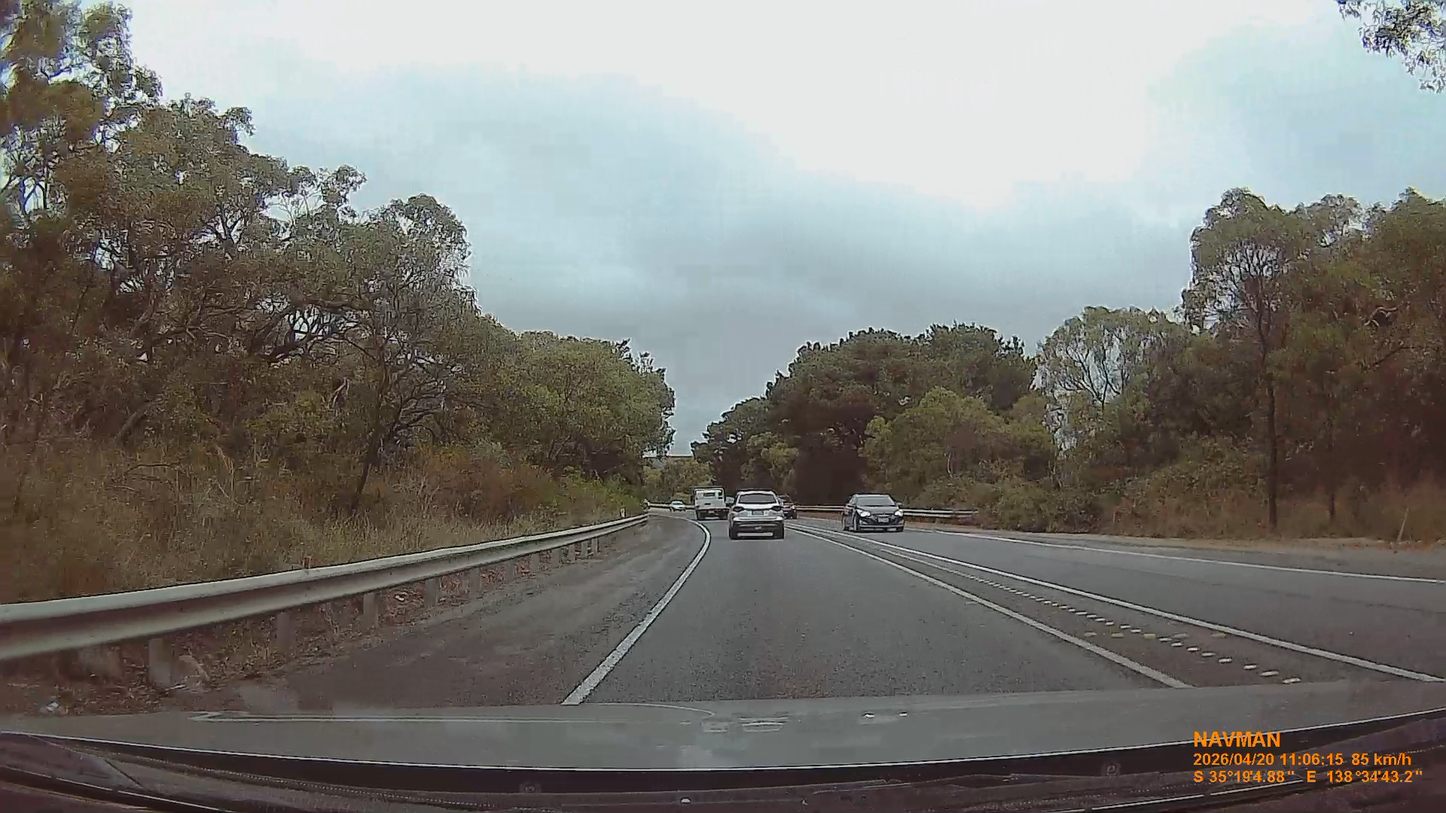road barriers: (0, 515, 647, 662), (905, 510, 977, 523), (798, 505, 842, 517)
